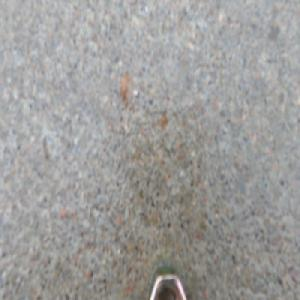Nut: (145, 261, 188, 300)
